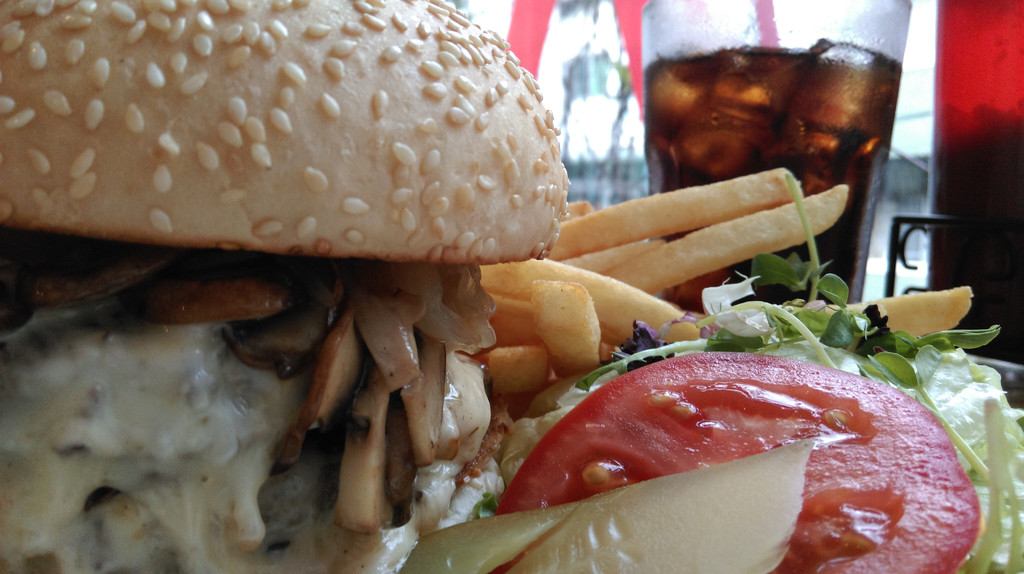French fries: (464, 166, 970, 408)
